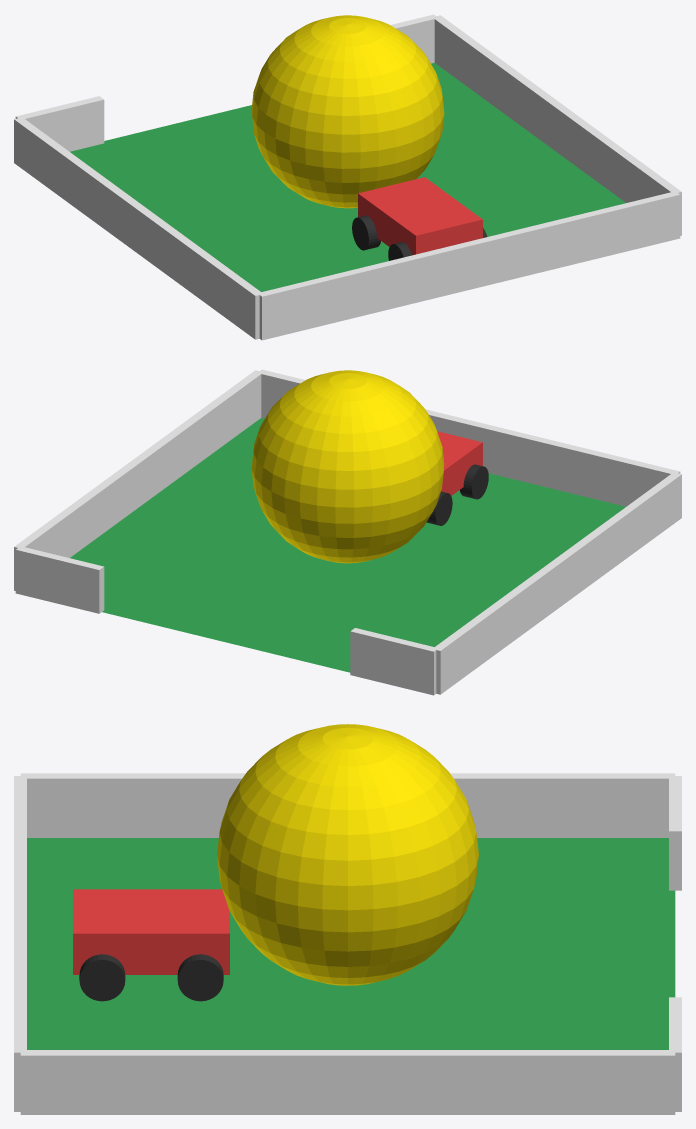
Rendered from CarFootball.fbx.
3 views of the same model, one above another, from view 1: azimuth 30°, elevation 25°; view 2: azimuth 150°, elevation 25°; view 3: azimuth 270°, elevation 25° (orthographic). The views are drawn at different scales.
Parts seen in each view (by area): view 1: beach, ball, BackWall, LeftWall, RightWall, carbody, GoalWallLeft, GoalWallLeft.001, Wheel_FL; view 2: beach, ball, LeftWall, RightWall, BackWall, GoalWallLeft.001, GoalWallLeft, carbody, Wheel_BL, Wheel_FL; view 3: beach, ball, RightWall, LeftWall, carbody, BackWall, Wheel_BR, Wheel_FR, GoalWallLeft, GoalWallLeft.001.
Part boxes in pixels (x1=…): beach: x1=70, y1=63, x2=625, y2=291; ball: x1=251, y1=15, x2=444, y2=208; BackWall: x1=257, y1=192, x2=680, y2=340; LeftWall: x1=14, y1=117, x2=262, y2=339; RightWall: x1=434, y1=15, x2=681, y2=235; carbody: x1=358, y1=177, x2=482, y2=255; GoalWallLeft: x1=15, y1=96, x2=104, y2=151; GoalWallLeft.001: x1=390, y1=14, x2=438, y2=63; Wheel_FL: x1=352, y1=215, x2=380, y2=250; beach: x1=70, y1=418, x2=625, y2=672; ball: x1=251, y1=370, x2=444, y2=563; LeftWall: x1=432, y1=472, x2=681, y2=694; RightWall: x1=14, y1=370, x2=262, y2=590; BackWall: x1=257, y1=369, x2=680, y2=506; GoalWallLeft.001: x1=15, y1=547, x2=104, y2=613; GoalWallLeft: x1=350, y1=628, x2=438, y2=695; carbody: x1=437, y1=431, x2=482, y2=495; Wheel_BL: x1=459, y1=464, x2=488, y2=499; Wheel_FL: x1=426, y1=491, x2=452, y2=525; beach: x1=27, y1=838, x2=675, y2=1049; ball: x1=217, y1=724, x2=478, y2=985; RightWall: x1=20, y1=1050, x2=675, y2=1114; LeftWall: x1=20, y1=773, x2=675, y2=837; carbody: x1=73, y1=889, x2=229, y2=974; BackWall: x1=14, y1=776, x2=26, y2=1111; Wheel_BR: x1=79, y1=954, x2=125, y2=1001; Wheel_FR: x1=177, y1=954, x2=223, y2=1001; GoalWallLeft: x1=669, y1=776, x2=681, y2=890; GoalWallLeft.001: x1=669, y1=997, x2=681, y2=1111.
Size of the model in its own units: 10.2 by 4 by 10.2.
